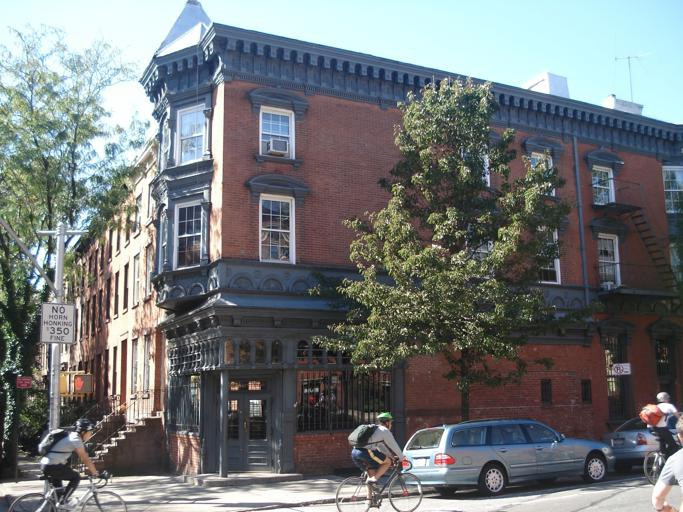non-vehicle: (6, 469, 126, 511), (334, 455, 422, 511), (642, 430, 682, 485)
